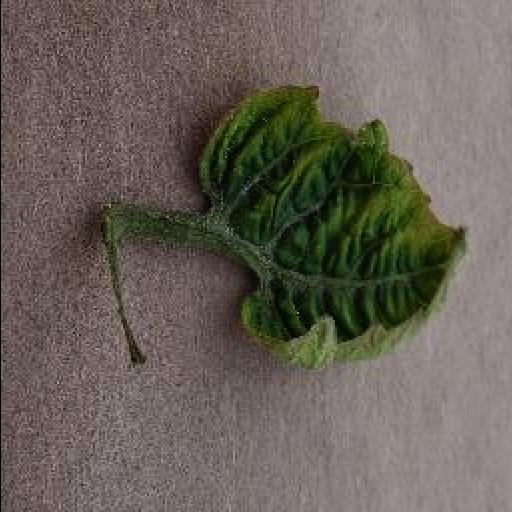disease_tomato: (198, 86, 470, 374)
